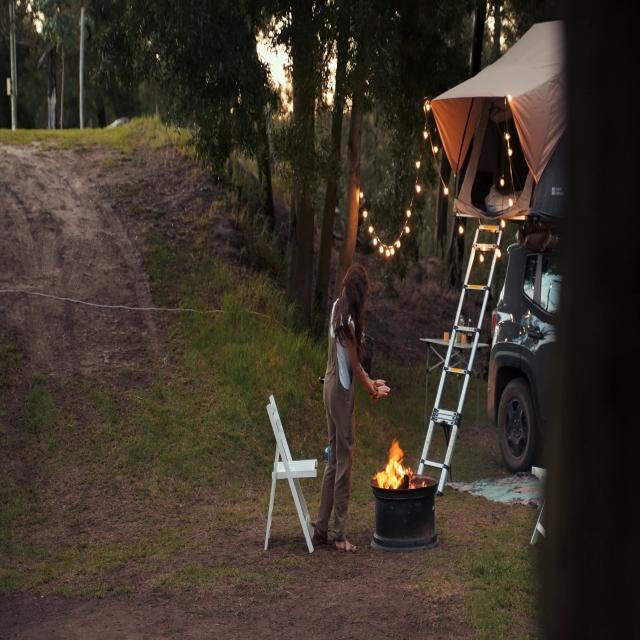Fire: (377, 430, 409, 492)
